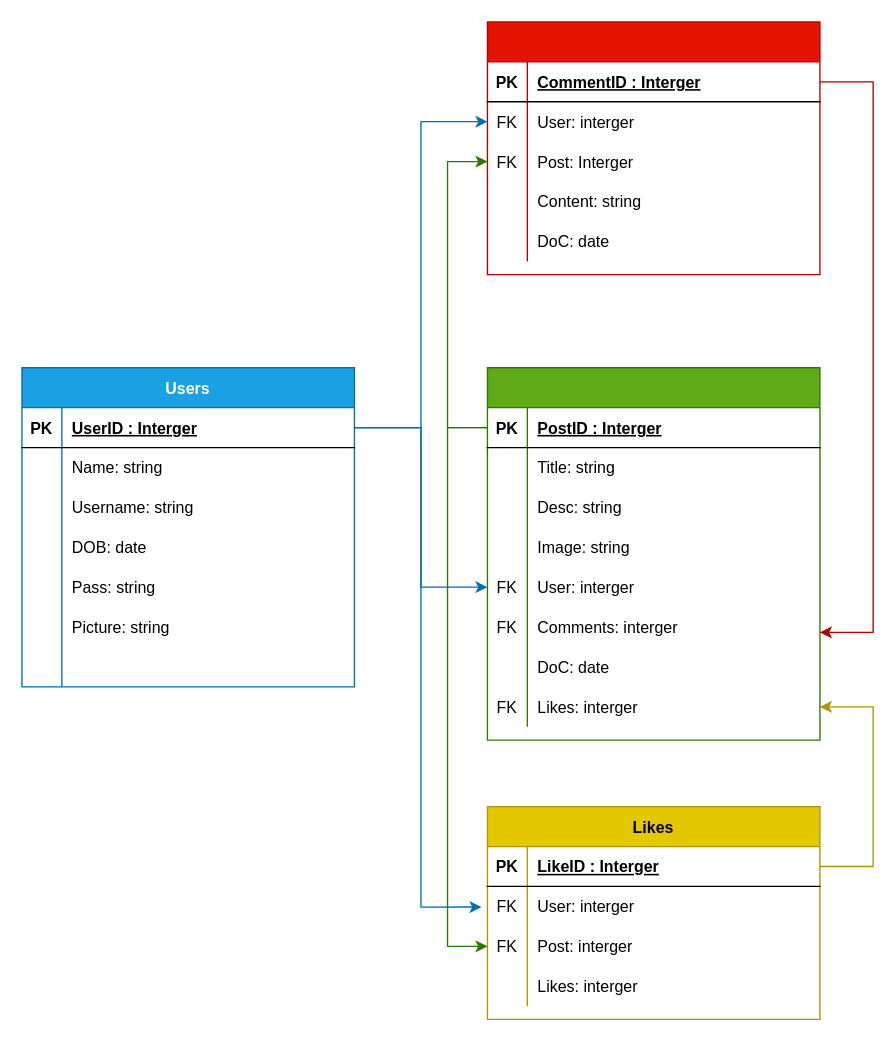
Image size: 895x1041. Some labels were removed from this diagram. Here are the shapes that lost their labels. From the top down, the box of each, then its label:
(486, 21, 820, 275): Comments
(486, 366, 820, 740): Posts
